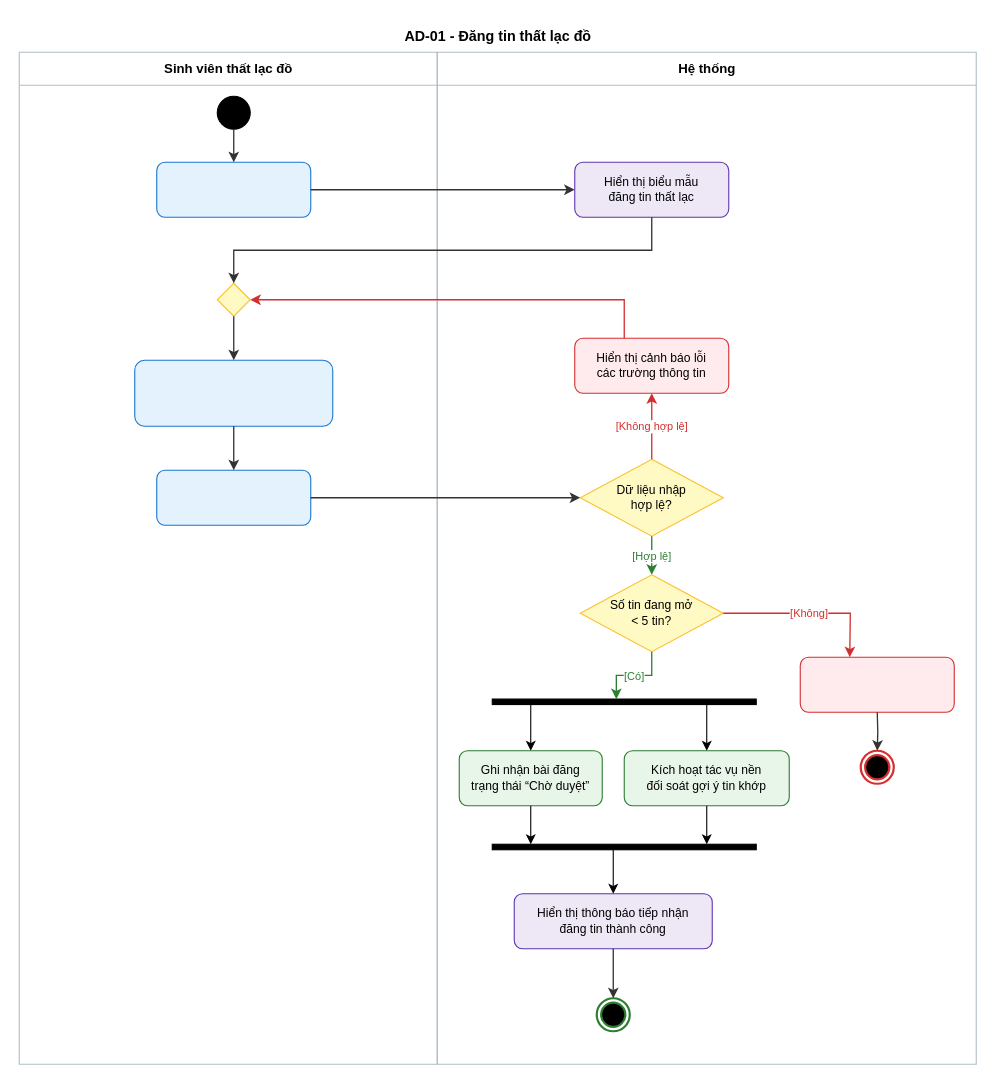
The diagram is 996 pixels wide and 1084 high, and some of its shapes have lost their labels. Each missing label, with the centre of its shape:
"Chọn chức năng “Đăng tin thất lạc đồ”" goes at [233,189].
"Khai báo loại đồ, khu vực, thời gian ước tính, mô tả & tải ảnh minh họa (nếu có)" goes at [233,392].
"Nhấn nút “Đăng tin” để xác nhận" goes at [233,497].
"Thông báo từ chối do vượt quá giới hạn 5 tin" goes at [876,684].
